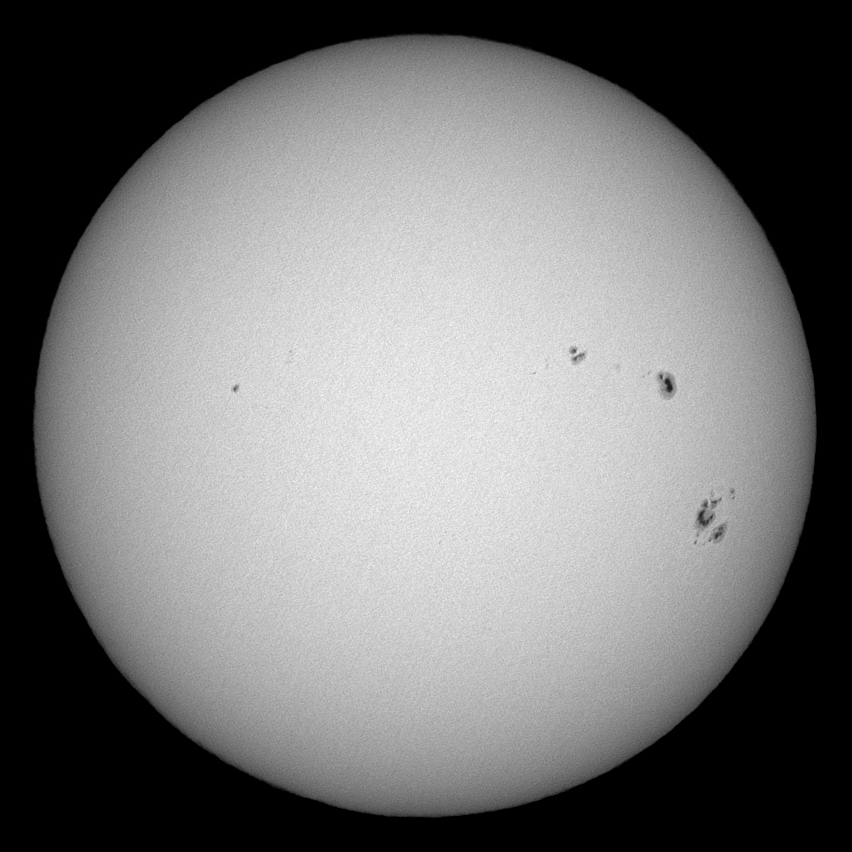sunspot: (691, 486, 736, 546), (654, 364, 683, 401), (566, 342, 588, 367), (227, 381, 243, 394)
